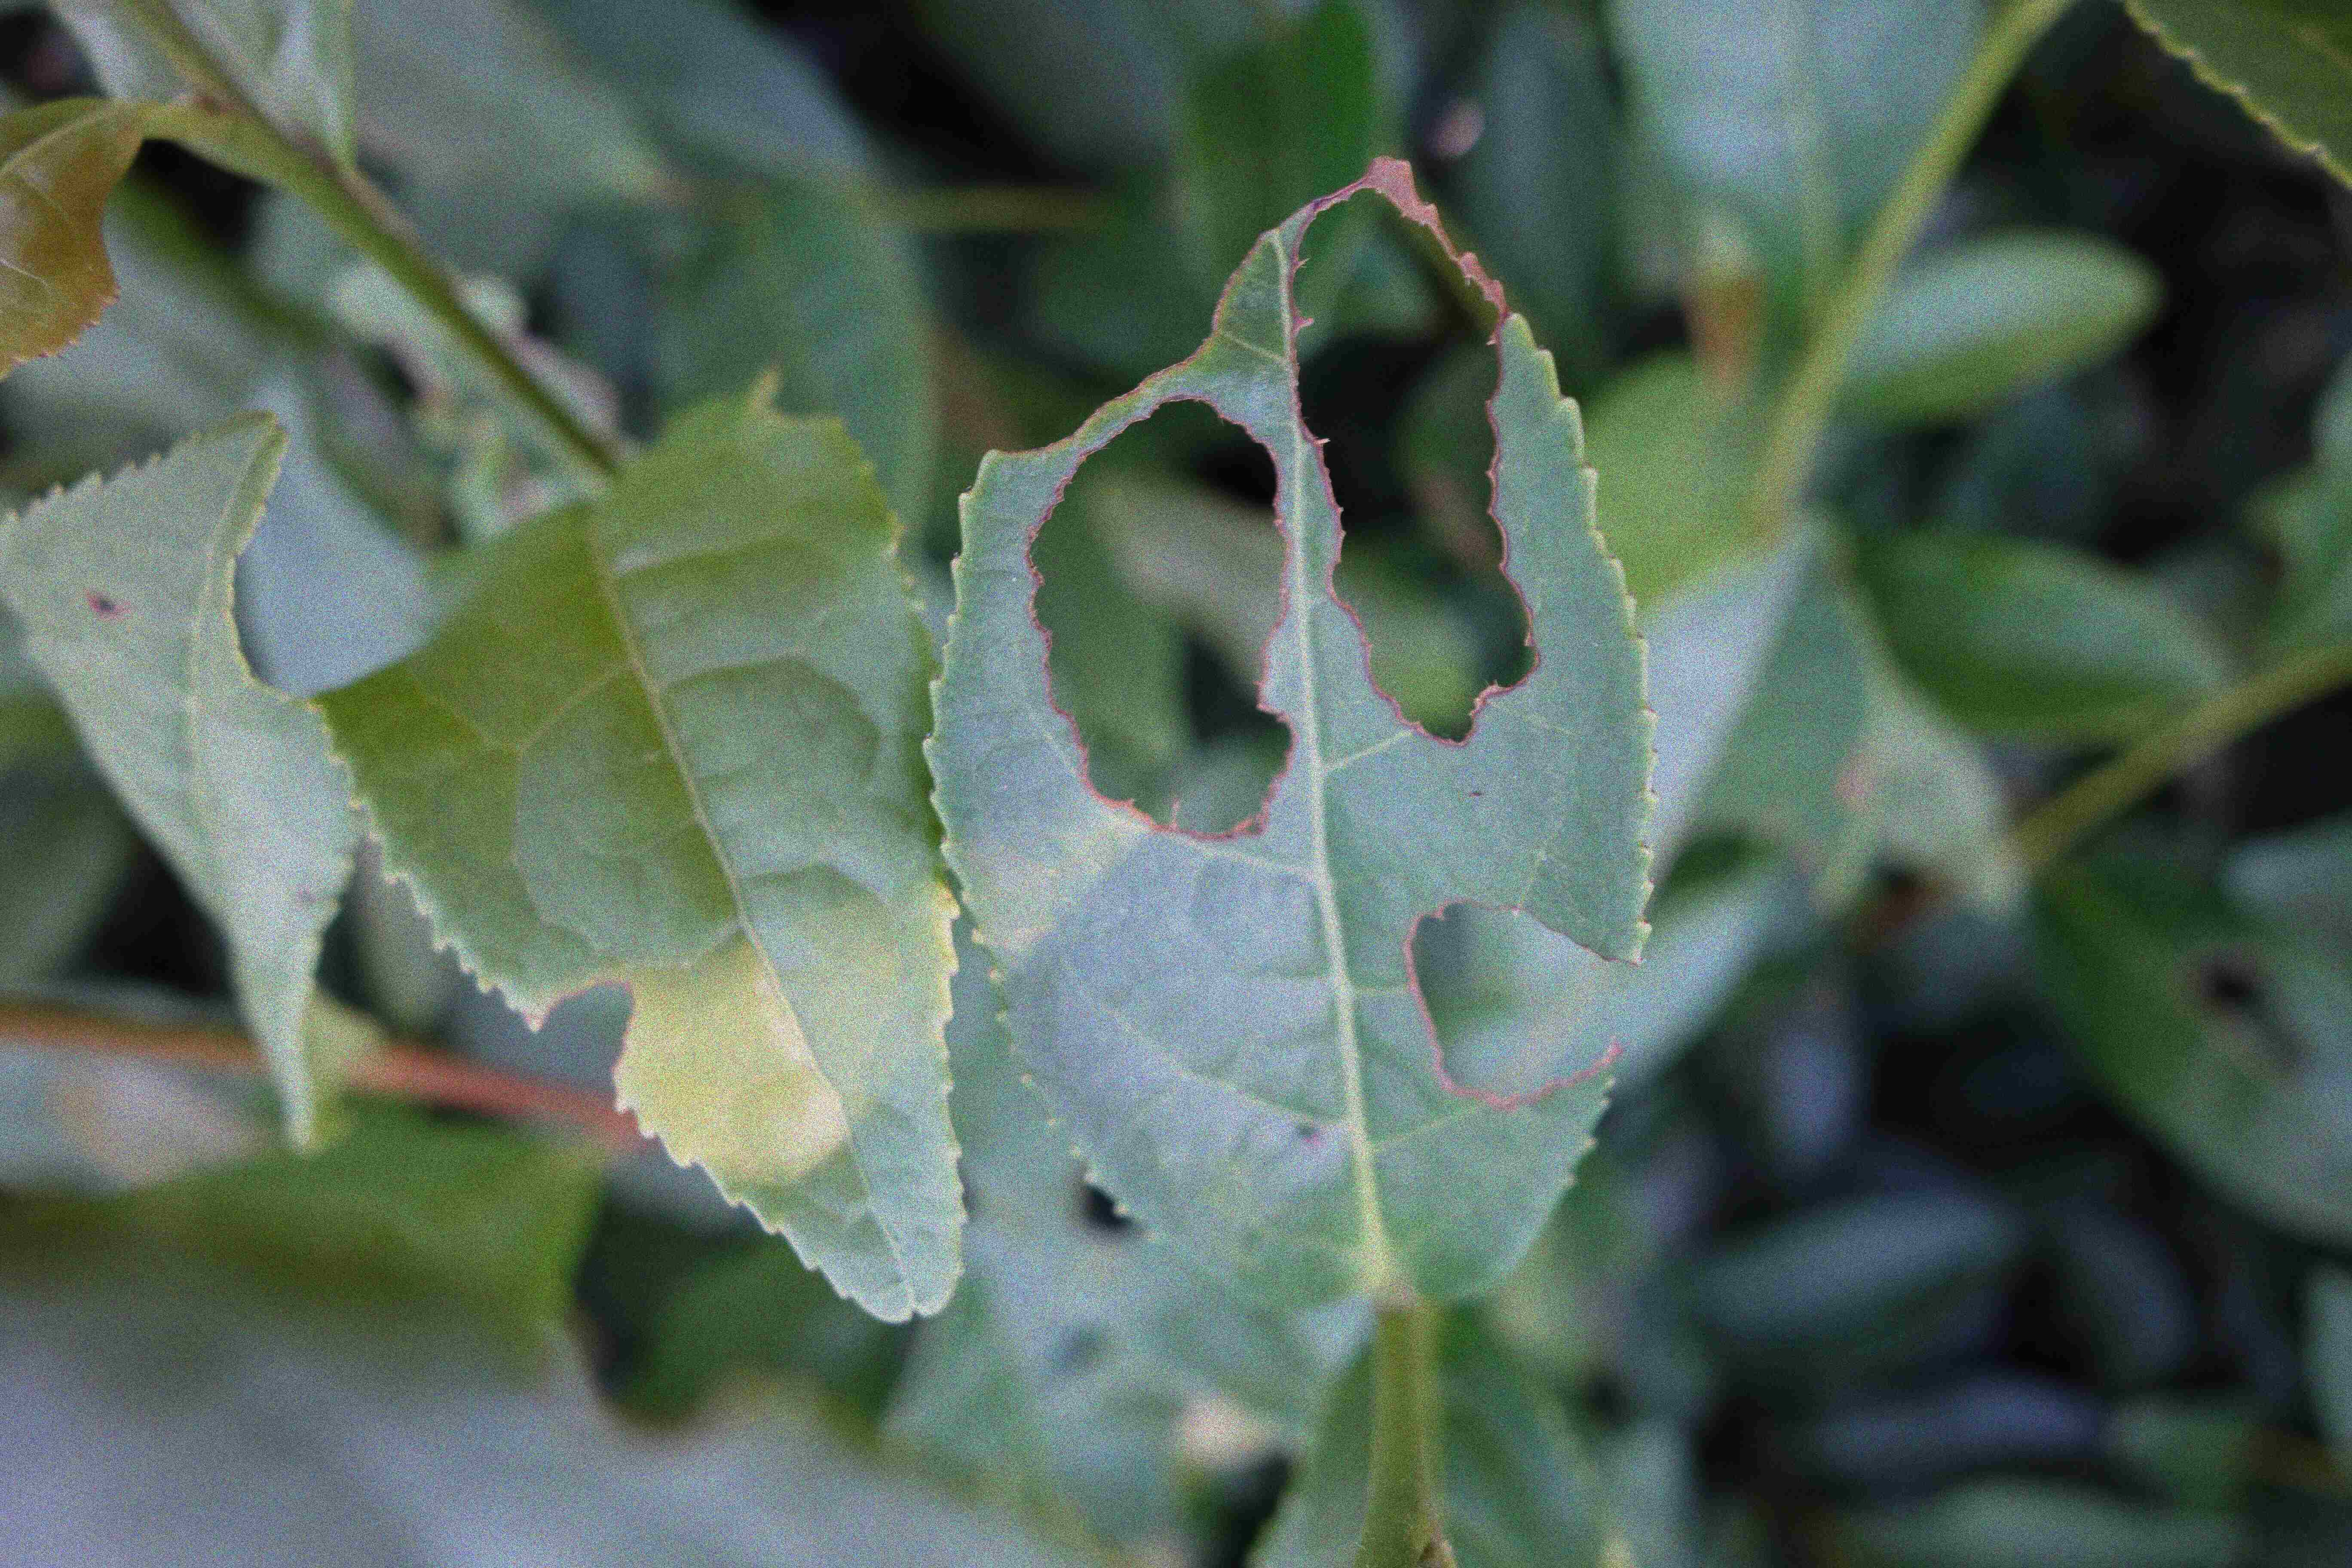chihuo_high: (927, 145, 1662, 1328)
chihuo_low: (317, 362, 966, 1321)
tanju_low: (3, 91, 163, 383)
